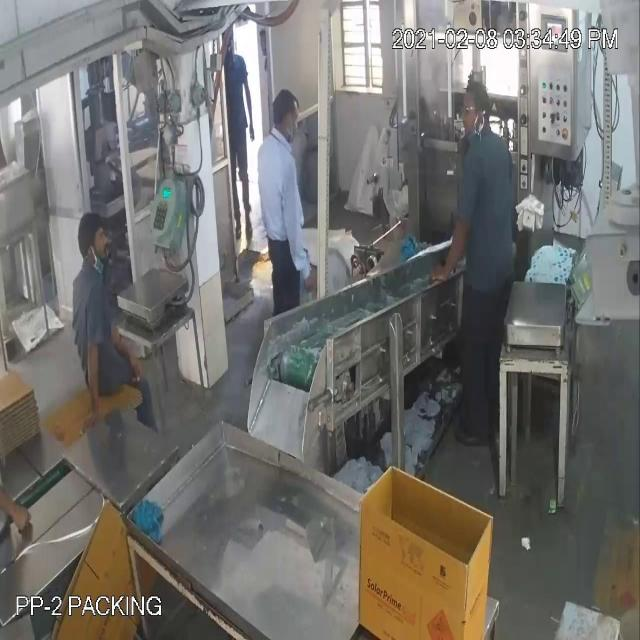No_Gloves: (18, 70, 448, 518)
